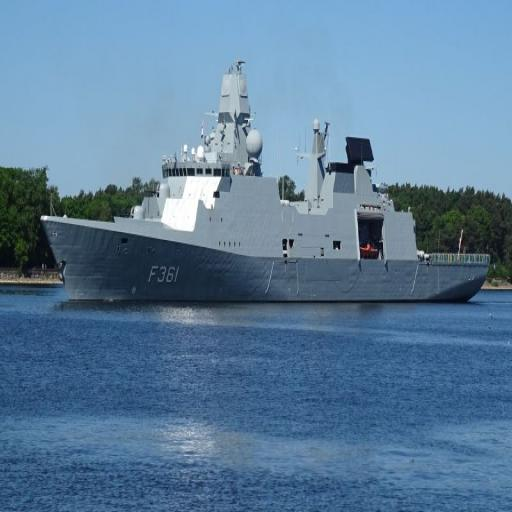Fragata: (38, 42, 493, 310)
